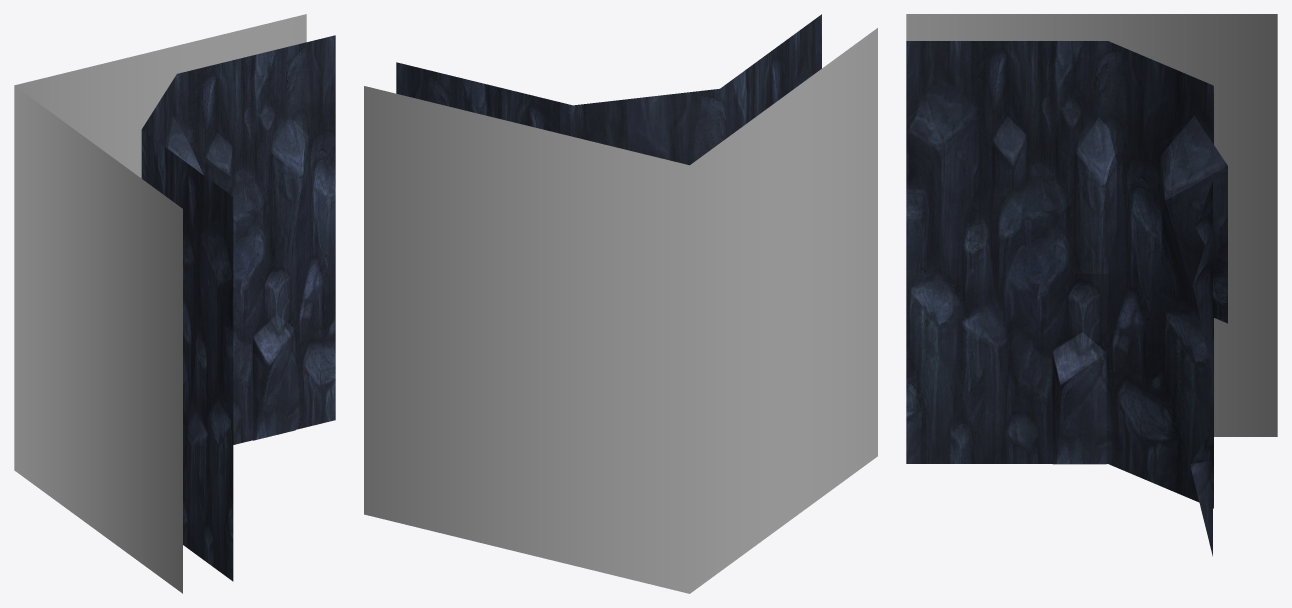
The model's file is mine_wall_concave_01.fbx.
The picture shows the model from 3 angles, left to right: view 1: azimuth 30°, elevation 25°; view 2: azimuth 150°, elevation 25°; view 3: azimuth 270°, elevation 25°; orthographic projection. The views are drawn at different scales.
Visible parts, largest first — view 1: mine_wall_concave_01-0; view 2: mine_wall_concave_01-0; view 3: mine_wall_concave_01-0.
Boxes of the visible parts, <box> form: mine_wall_concave_01-0: <box>14,14,335,593</box>; mine_wall_concave_01-0: <box>364,14,877,593</box>; mine_wall_concave_01-0: <box>906,14,1277,556</box>.
Size of the model in its own units: 4.38 by 5.5 by 4.38.
